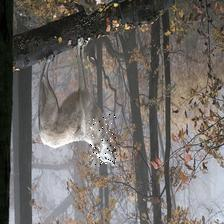WOLF: (90, 113, 116, 165)
